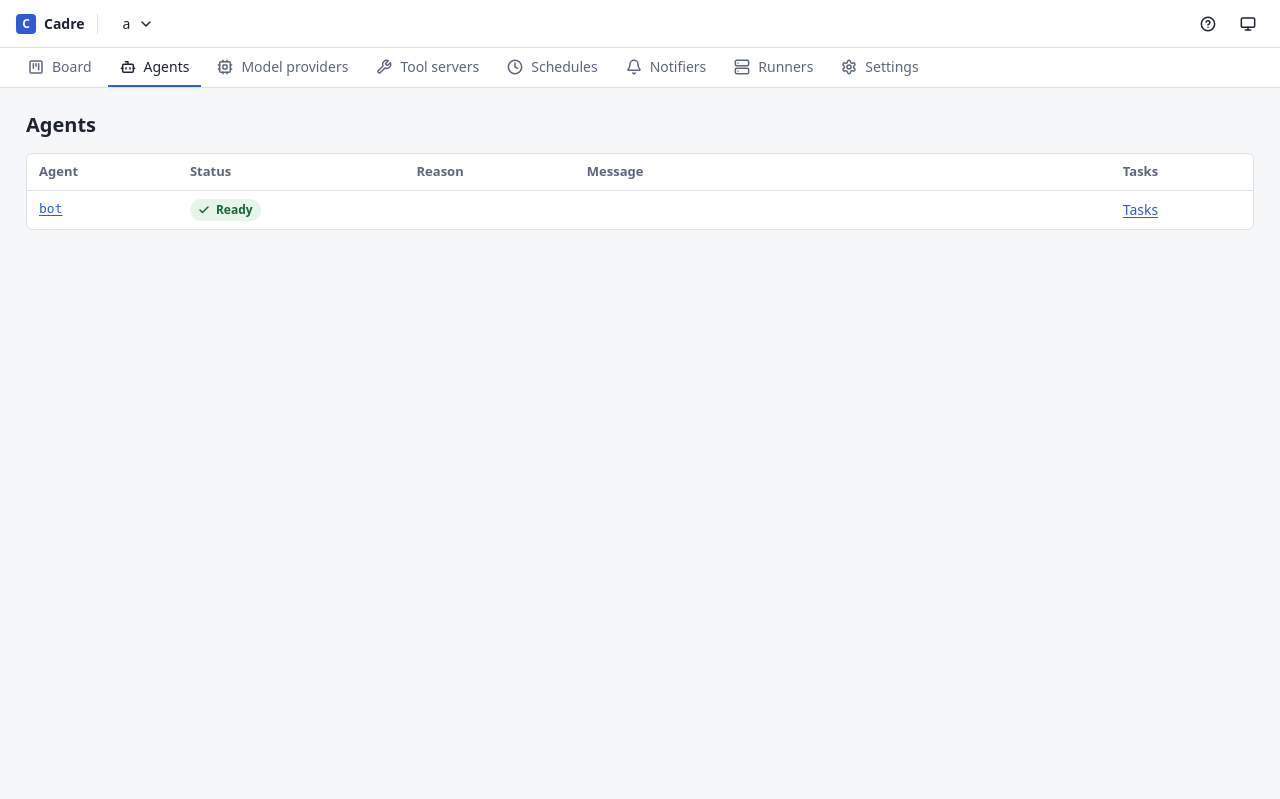
Scenario: AgentDetail › is opened from the Agents list
Click the link "bot" at (51, 208), box [39,200,62,216]
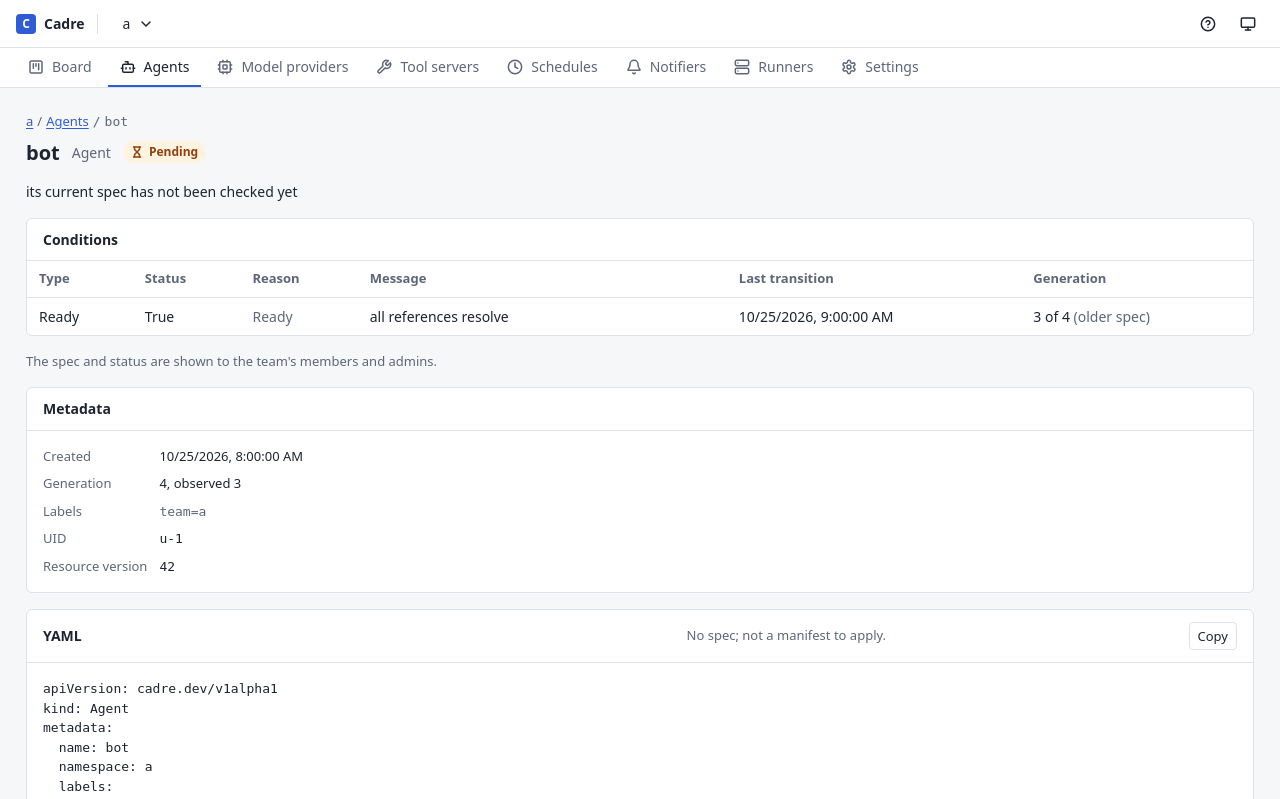
Expected: the heading "bot" is shown, [26,140,60,164]
Expected: the element named "Conditions table" is shown, [27,261,1253,334]
